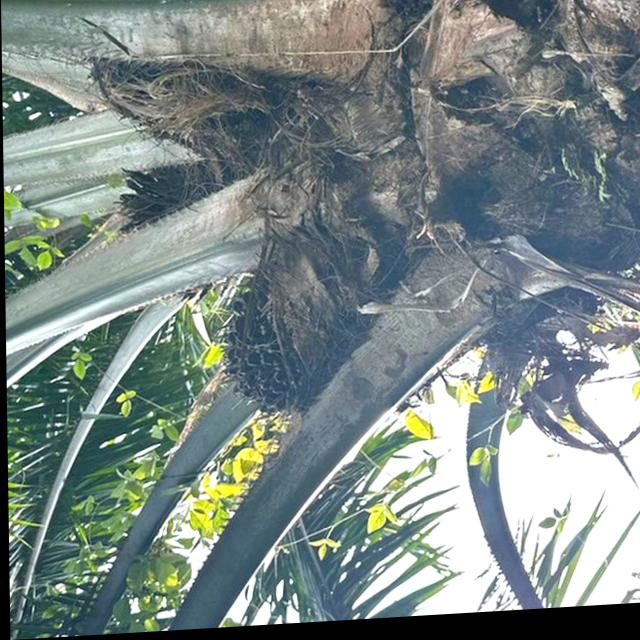almost: (207, 237, 370, 427)
